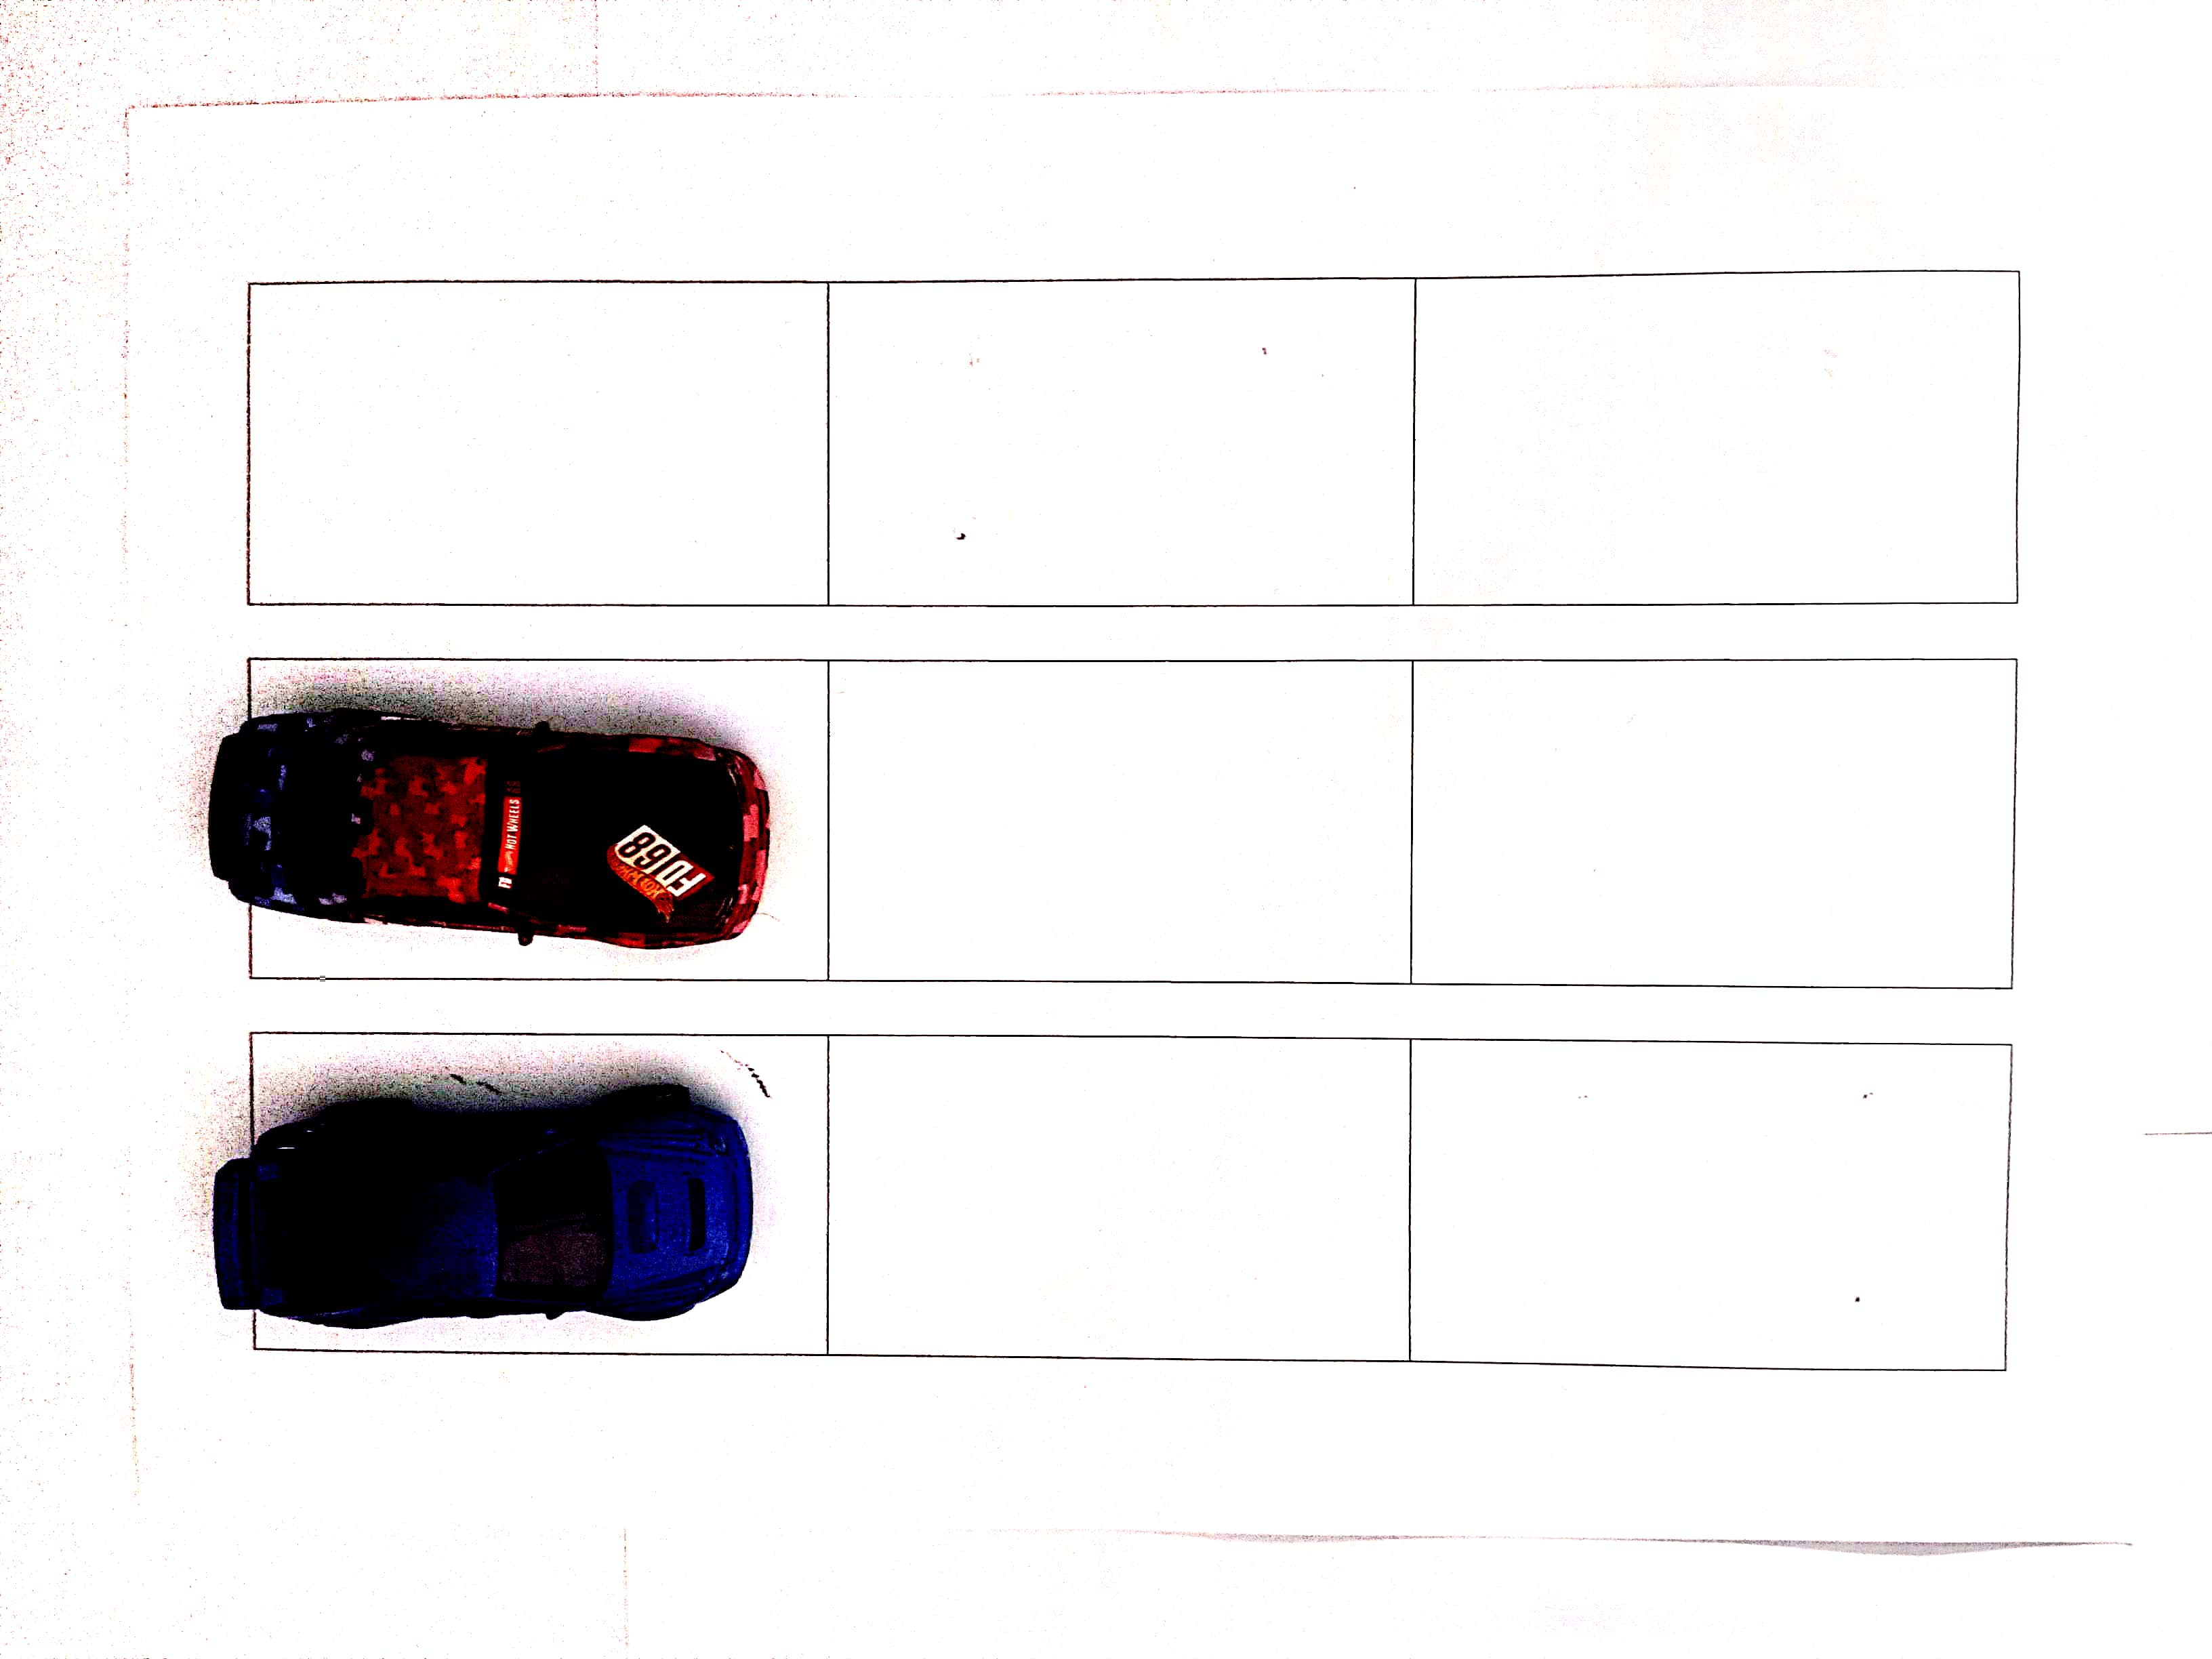Busy: (253, 655, 833, 985), (254, 1039, 822, 1358)
Free: (1414, 653, 2013, 985), (1414, 274, 2013, 601), (829, 279, 1414, 606), (1409, 1044, 2003, 1363), (249, 279, 827, 605), (827, 1035, 1409, 1358), (833, 659, 1409, 972)
